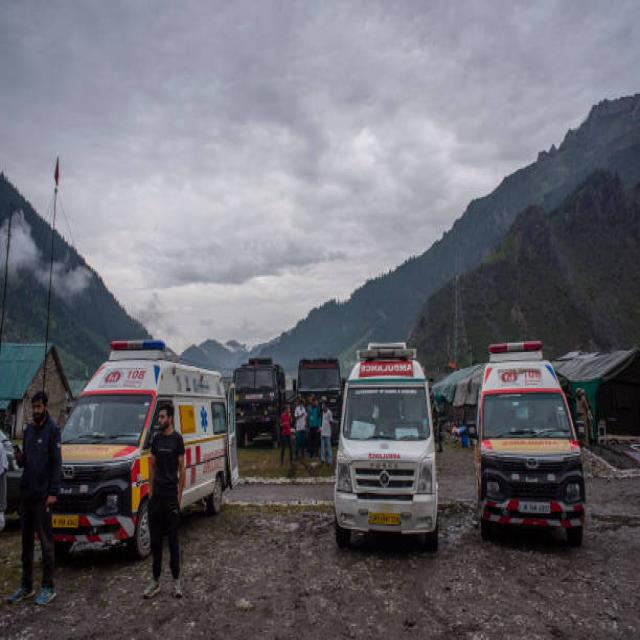ambulance: (349, 340, 430, 544), (485, 435, 578, 459), (483, 366, 557, 393), (173, 369, 228, 402), (186, 443, 227, 482), (102, 363, 154, 393), (486, 339, 548, 361), (109, 336, 171, 356), (358, 360, 416, 381), (65, 437, 118, 458), (368, 450, 403, 470), (198, 402, 212, 437)
